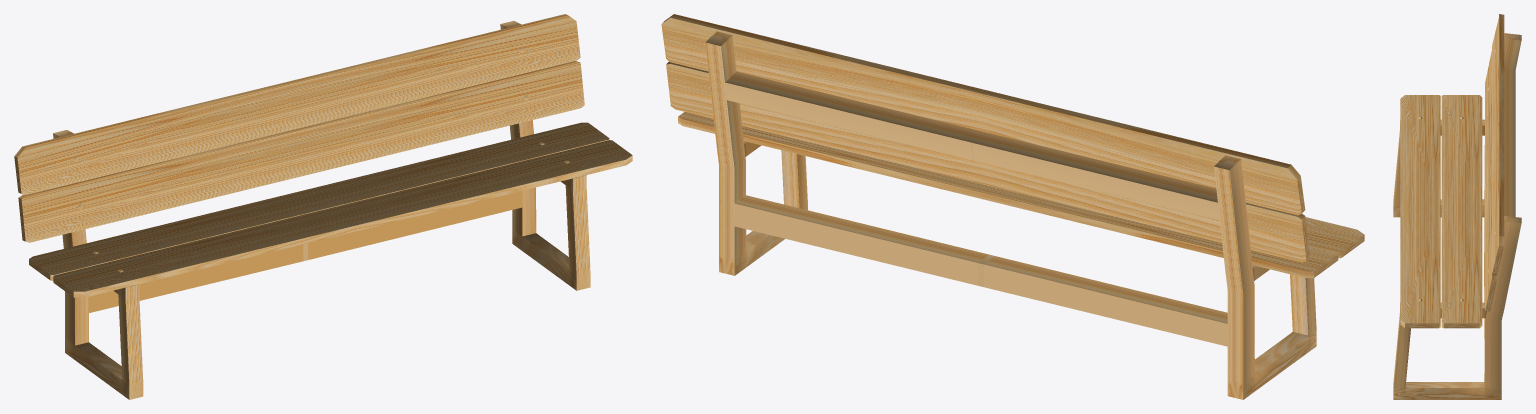
The model's file is banca.obj.
3 views of the same model, side by side, from view 1: azimuth 30°, elevation 25°; view 2: azimuth 150°, elevation 25°; view 3: azimuth 270°, elevation 25° (orthographic). The views are drawn at different scales.
Visible parts, largest first — view 1: Cylinder_003; view 2: Cylinder_003; view 3: Cylinder_003.
Boxes of the visible parts, bbox=[...] form: Cylinder_003: bbox=[14, 14, 632, 399]; Cylinder_003: bbox=[661, 14, 1364, 399]; Cylinder_003: bbox=[1393, 14, 1521, 399].
Bounding box in the file's own units: 3.71 × 1.37 × 0.8785.
1 material, 1 textured.
